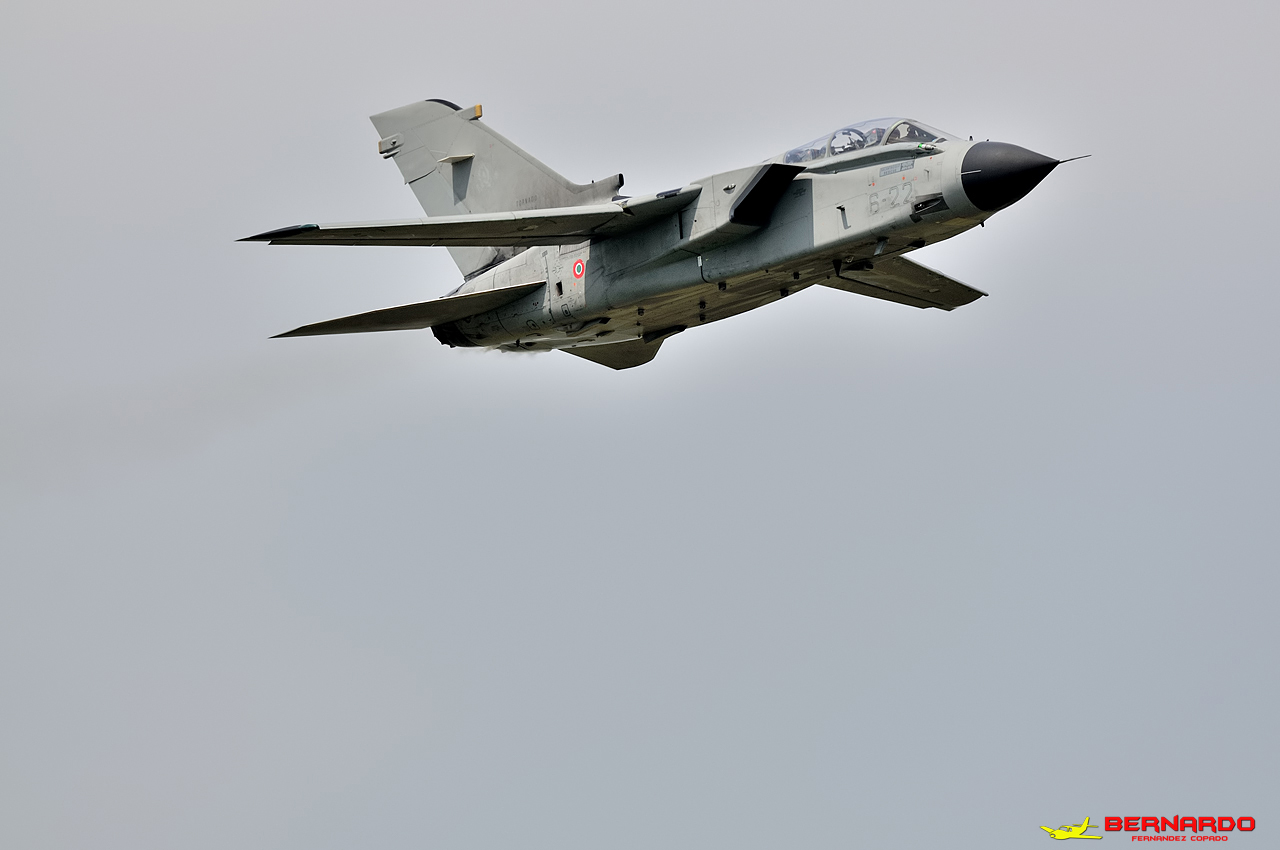Tornado: (233, 98, 1092, 371)
